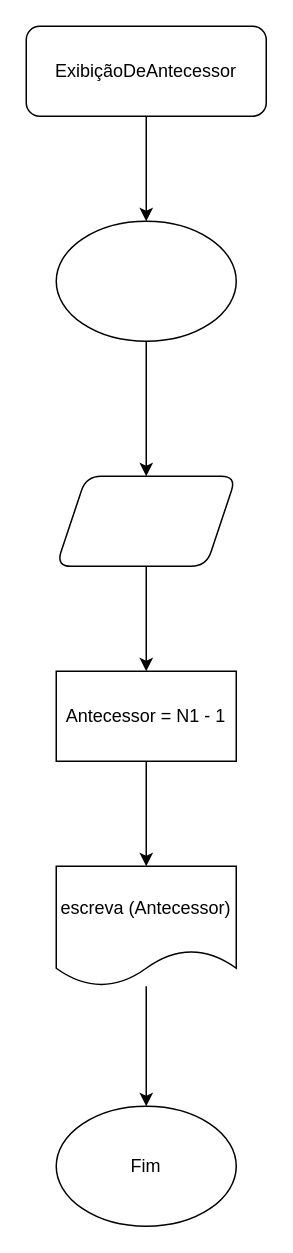
Some shapes in this 293 by 1253 pixel diagram are drawn without their labels. Here are the shapes that lost their labels. From the top down, the centre of each, then its label:
(145,280): Início
(145,520): leia (N1)
